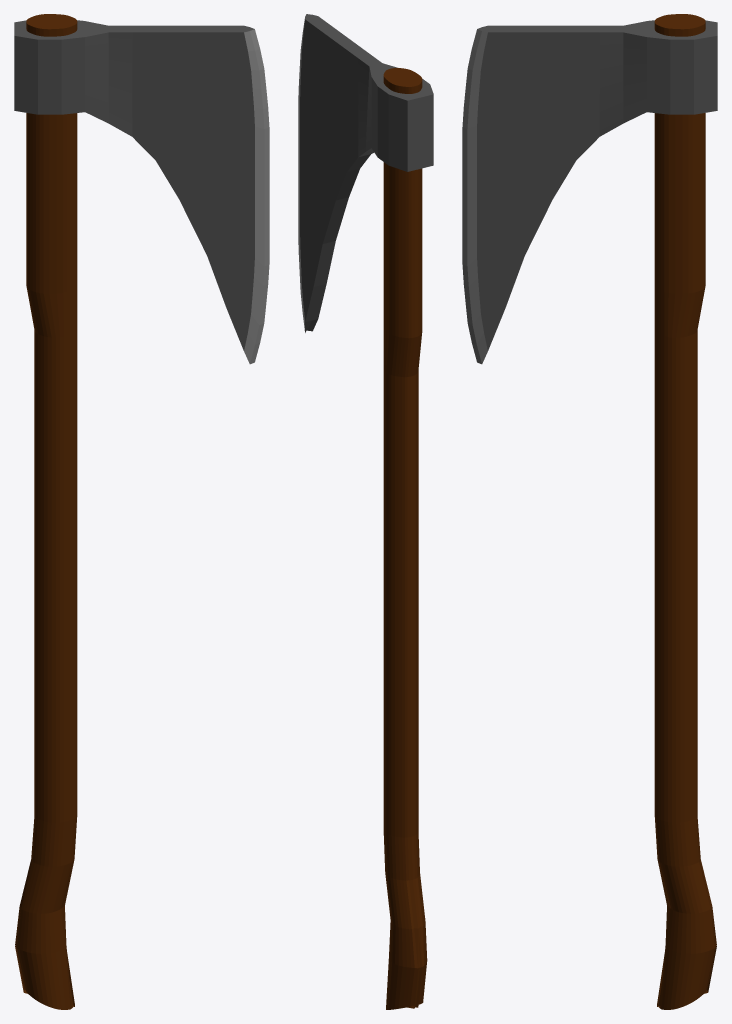
Rendered from Axe.fbx.
3 renders of one model, left to right at view 1: azimuth 90°, elevation 25°; view 2: azimuth 210°, elevation 25°; view 3: azimuth 270°, elevation 25°, orthographic. The views are drawn at different scales.
Visible parts, largest first — view 1: Cylinder; view 2: Cylinder; view 3: Cylinder.
Boxes of the visible parts, box(x1,y1,x2,y2) form: Cylinder: box(14, 14, 269, 1009); Cylinder: box(298, 14, 433, 1009); Cylinder: box(462, 14, 717, 1009).
Size of the model in its own units: 2.35 by 50.83 by 11.92.
